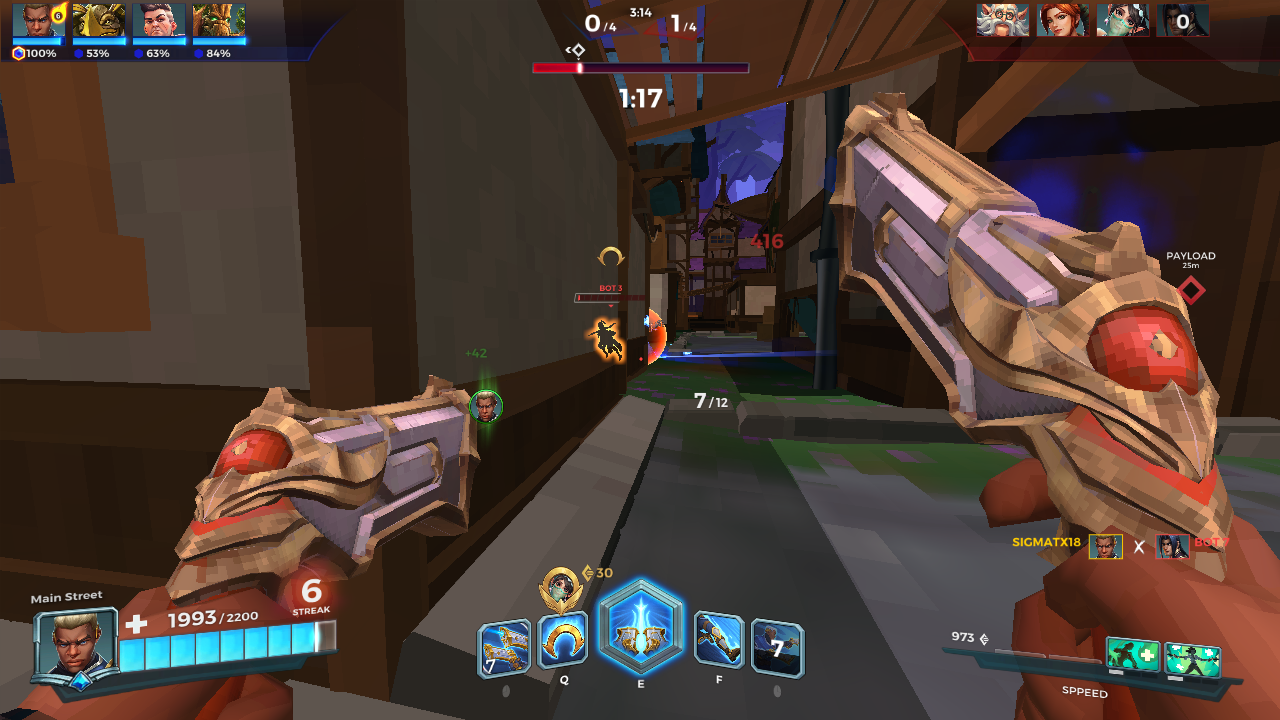model: (581, 315, 627, 364)
